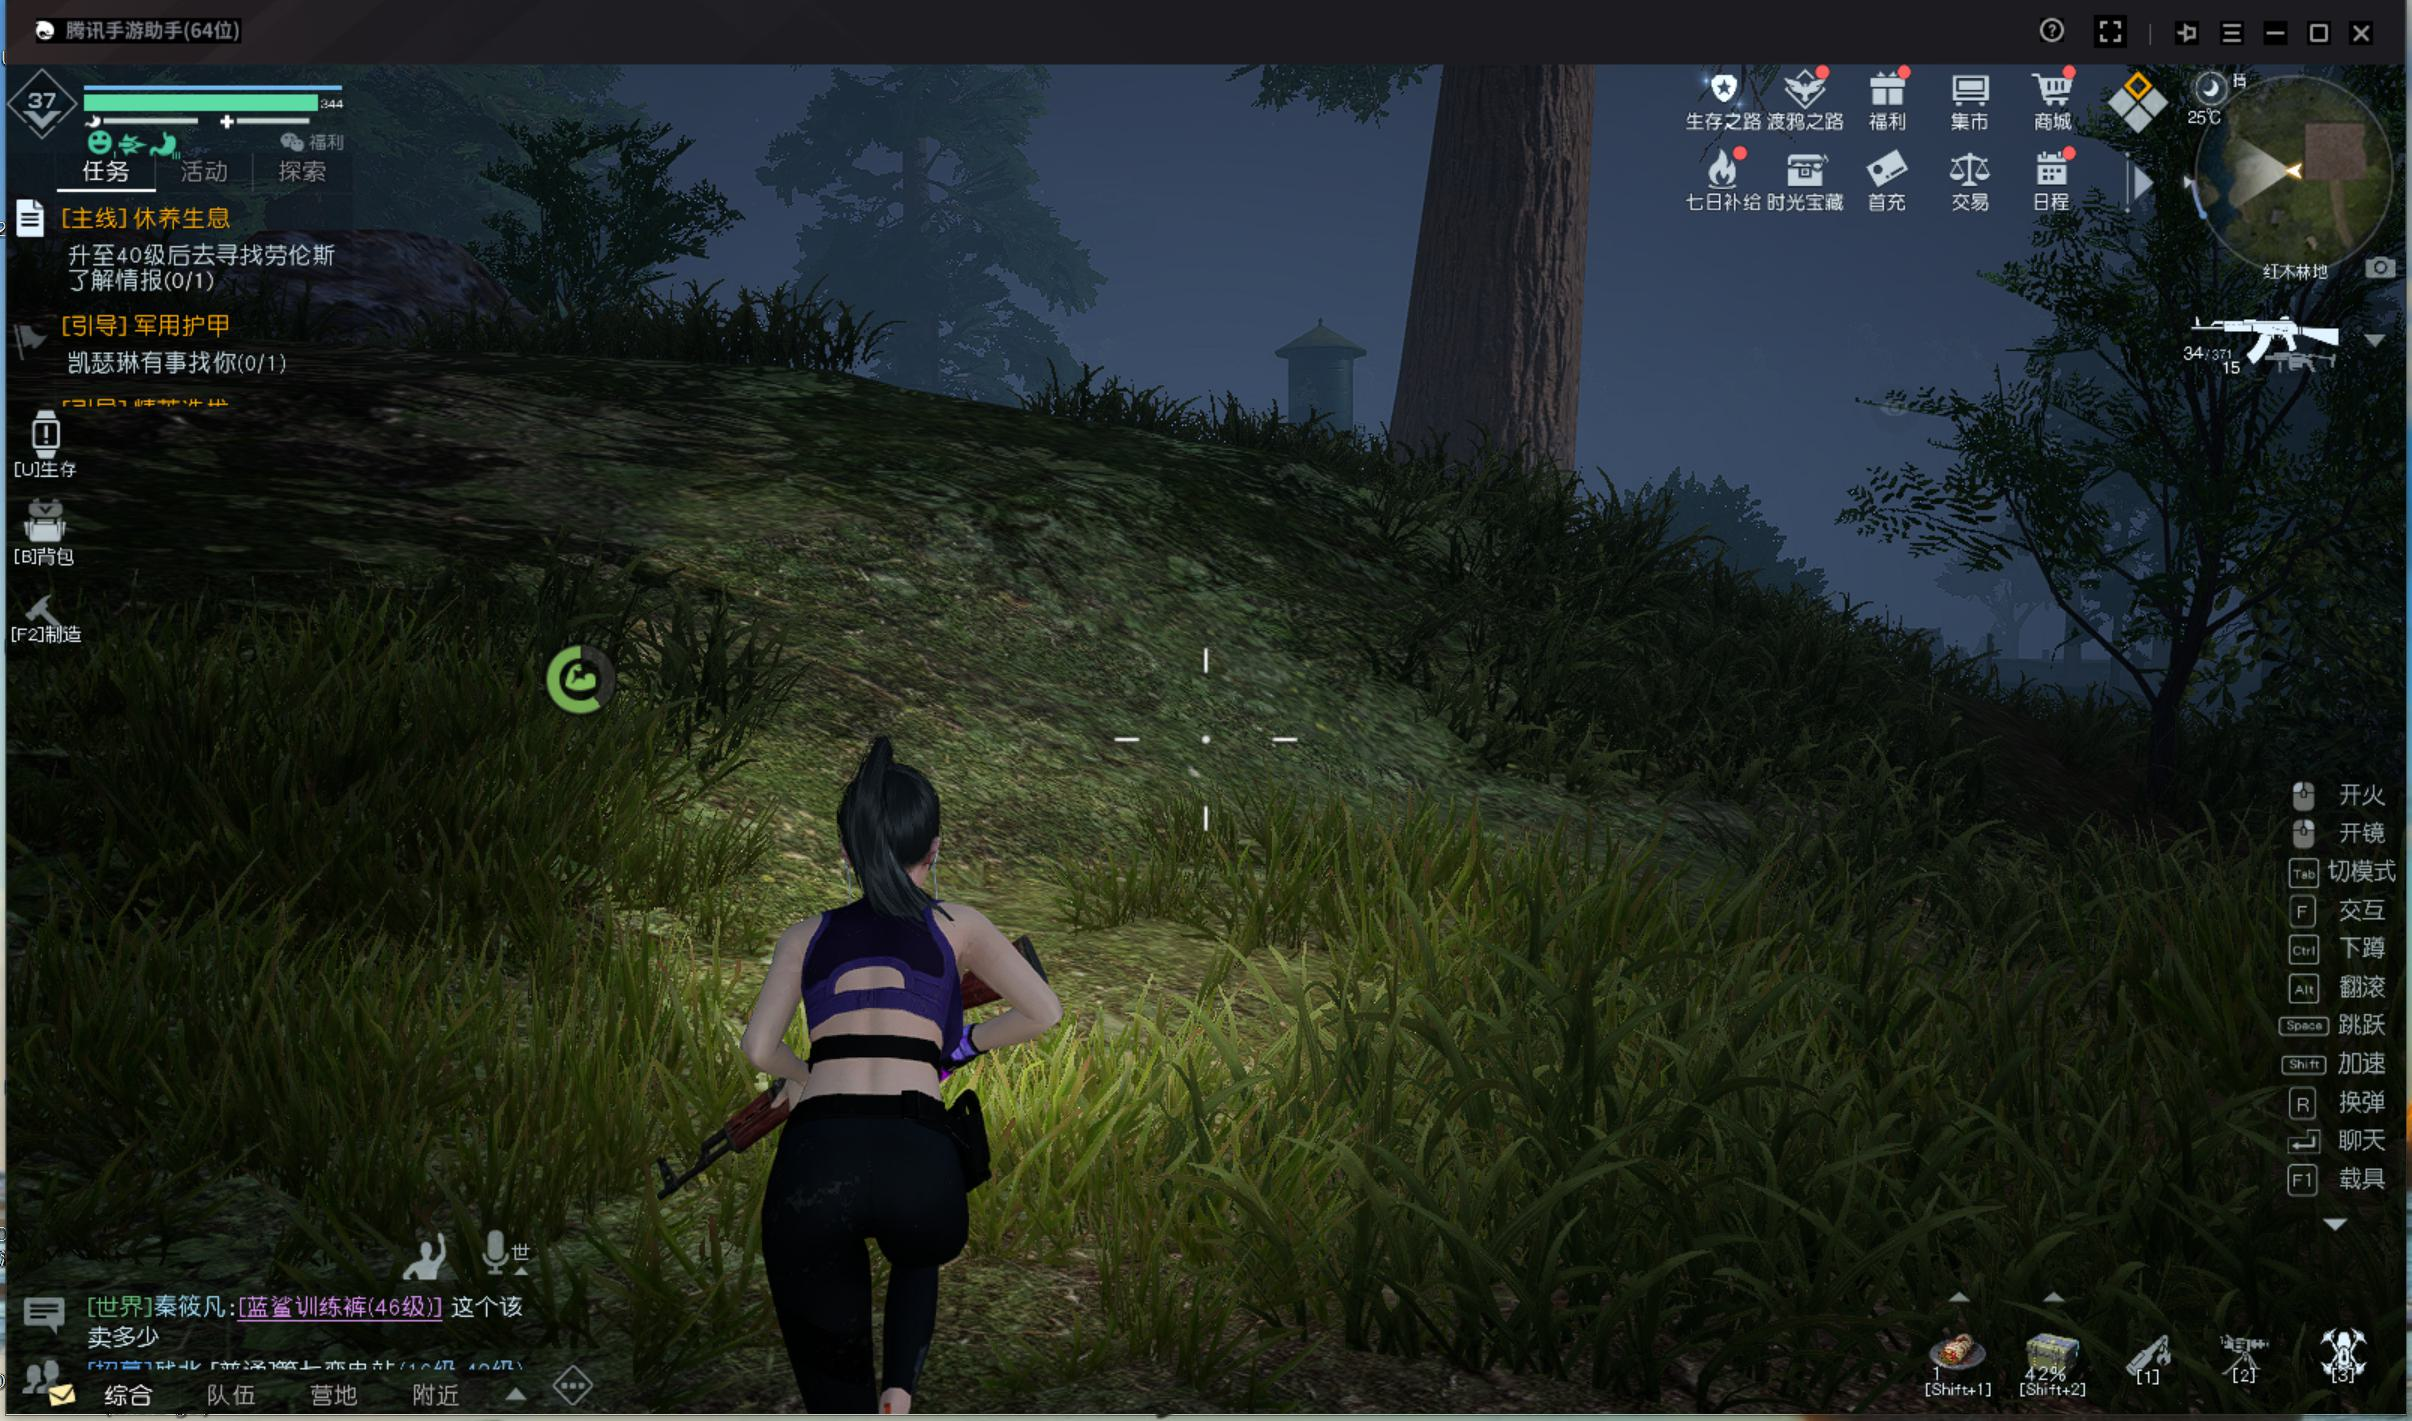tree: (1395, 117, 1593, 546)
